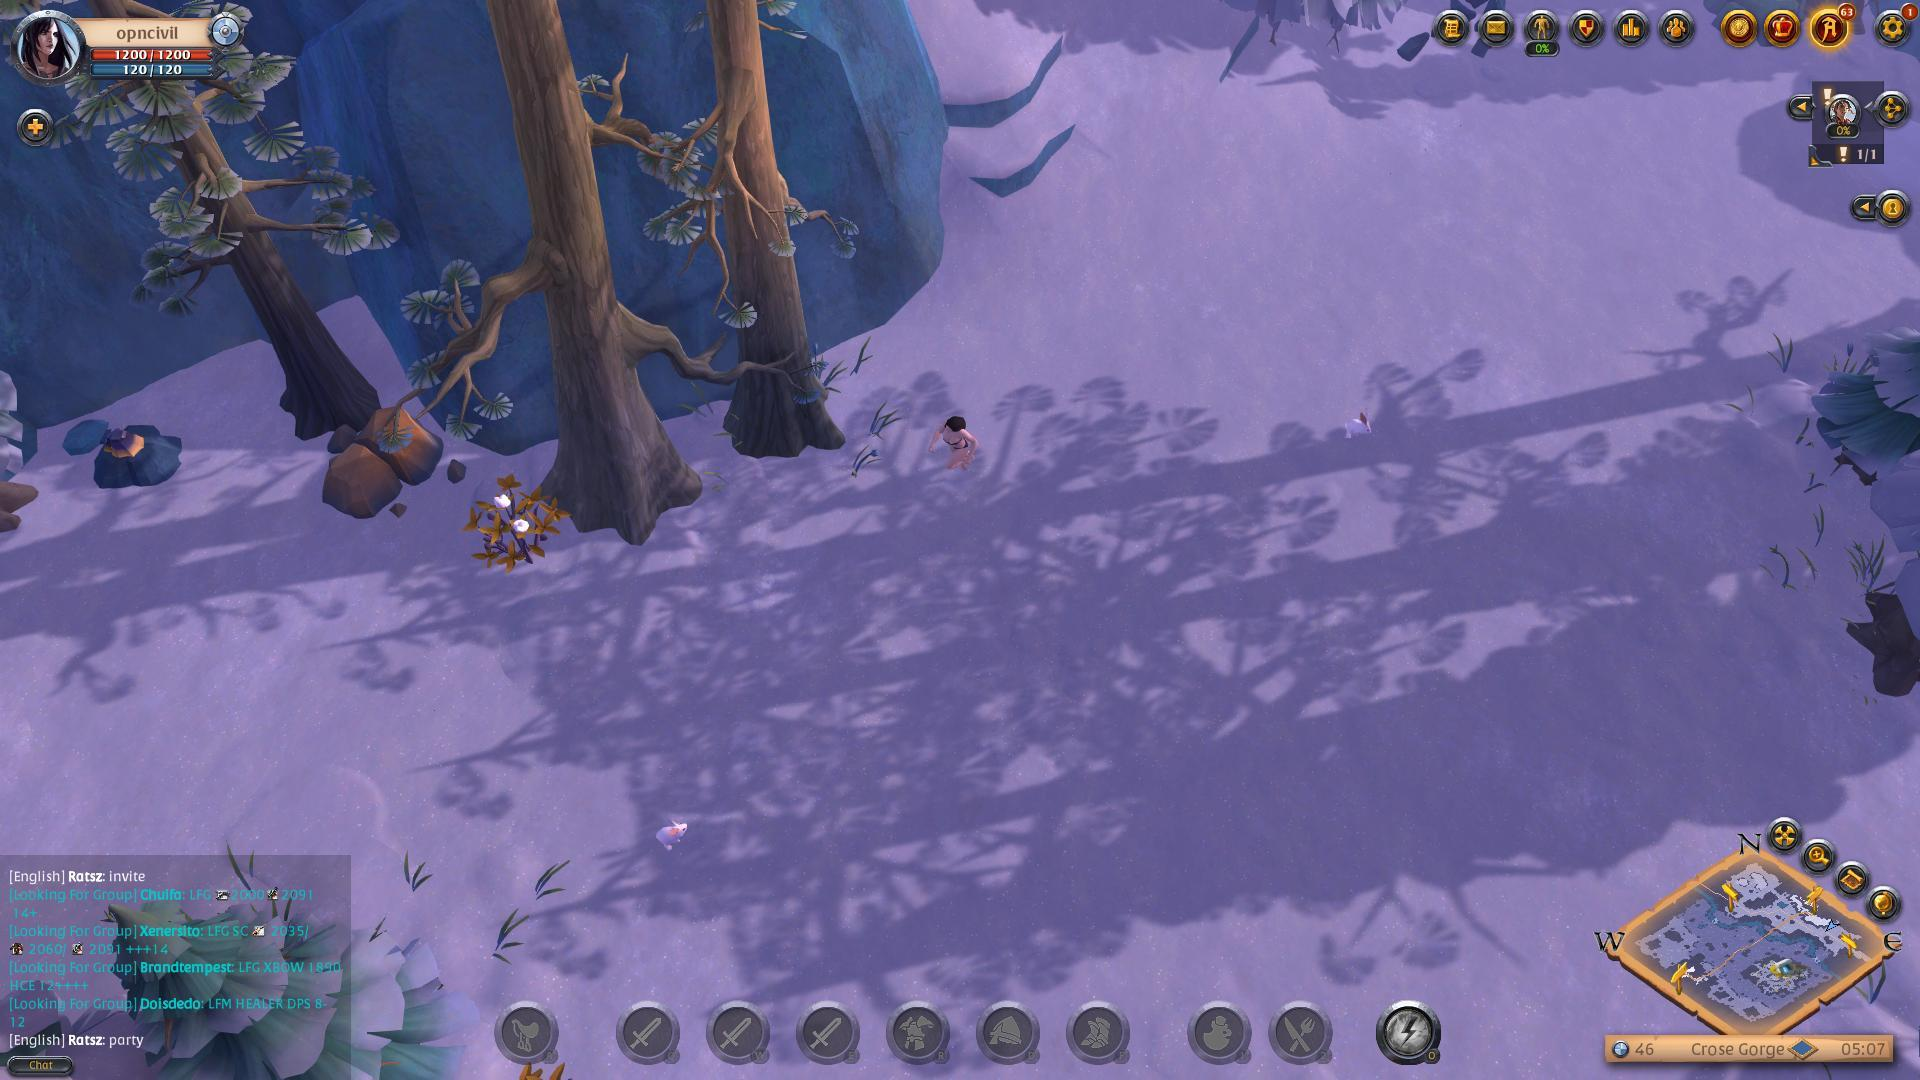copper_ore: (75, 417, 203, 500)
cotton: (459, 483, 592, 563)
limestone: (313, 402, 443, 534)
